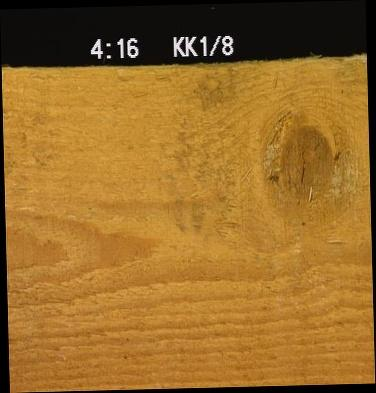sound_knot: (260, 107, 347, 208)
